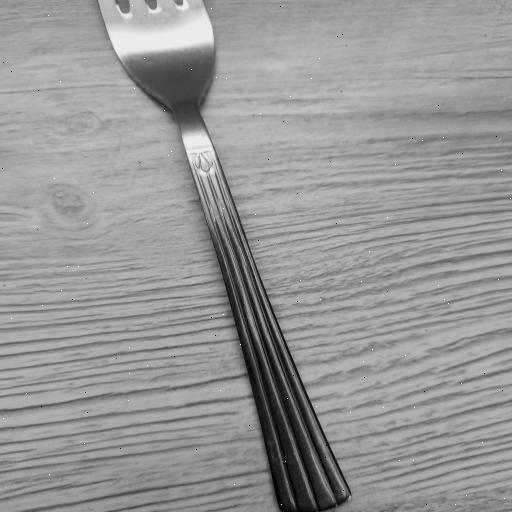fork: (96, 0, 352, 512)
